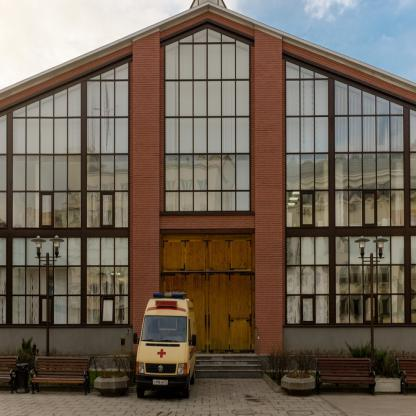Ambulance - v1 Ambulance last generate: (132, 290, 198, 400)
